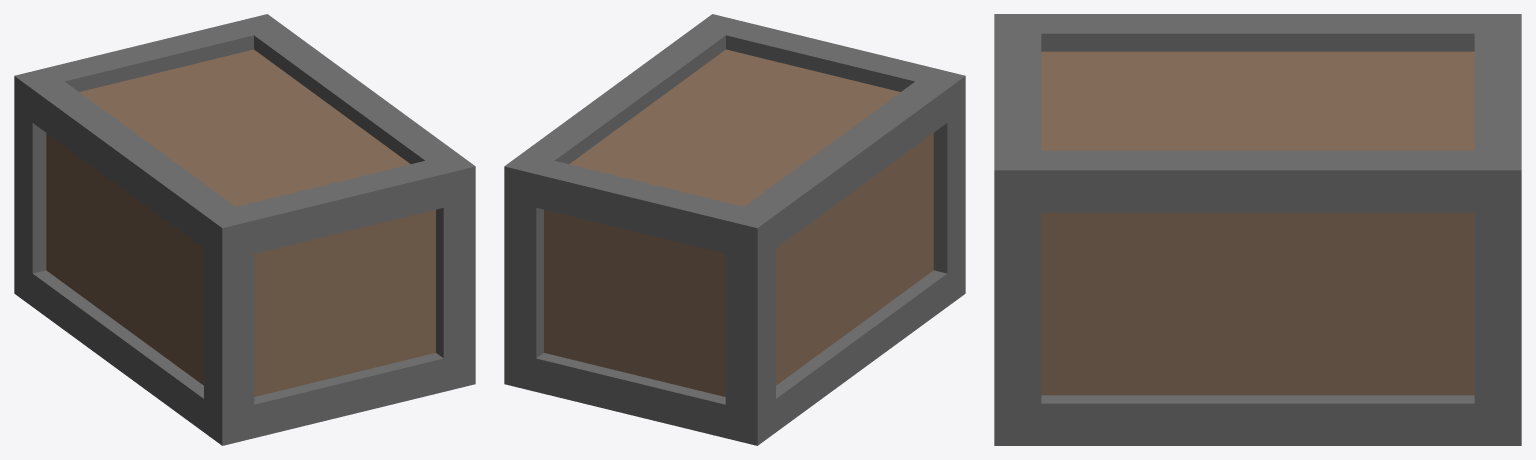
The model's file is SM_crate_01.fbx.
The picture shows the model from 3 angles, left to right: view 1: azimuth 30°, elevation 25°; view 2: azimuth 150°, elevation 25°; view 3: azimuth 270°, elevation 25°; orthographic projection. The views are drawn at different scales.
Visible parts, largest first — view 1: crate_01; view 2: crate_01; view 3: crate_01.
Boxes of the visible parts, x1,y1,x2,y2 form: crate_01: (14, 14, 475, 445); crate_01: (504, 14, 965, 445); crate_01: (994, 14, 1521, 445).
Size of the model in its own units: 75.84 by 62.29 by 108.
